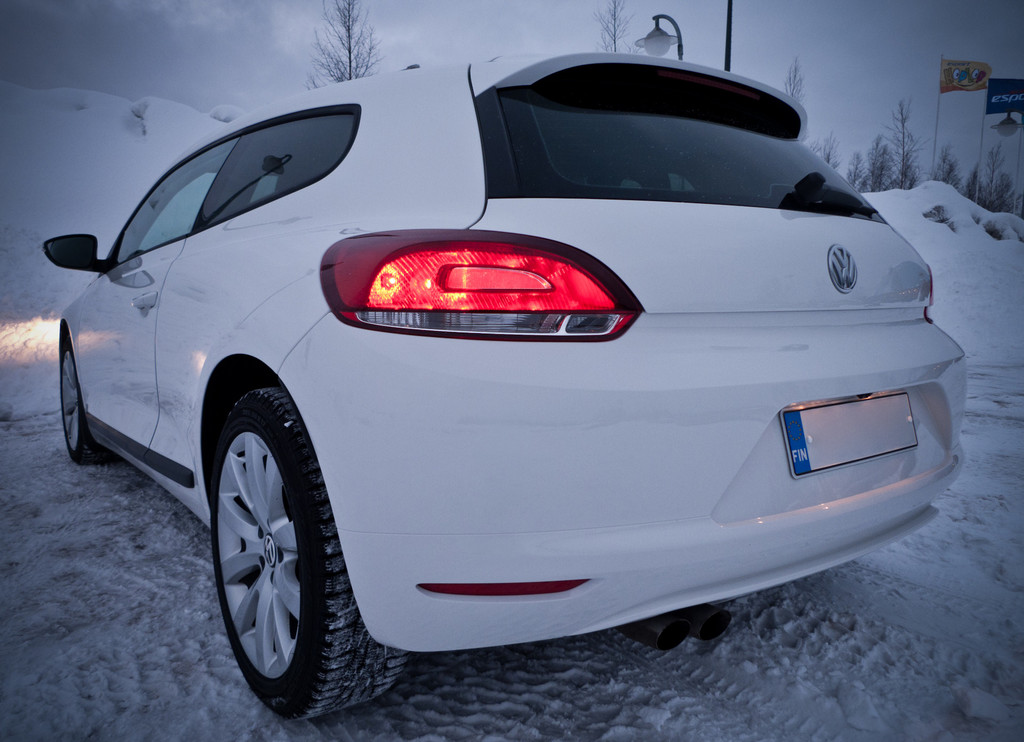Car: (42, 53, 965, 720)
